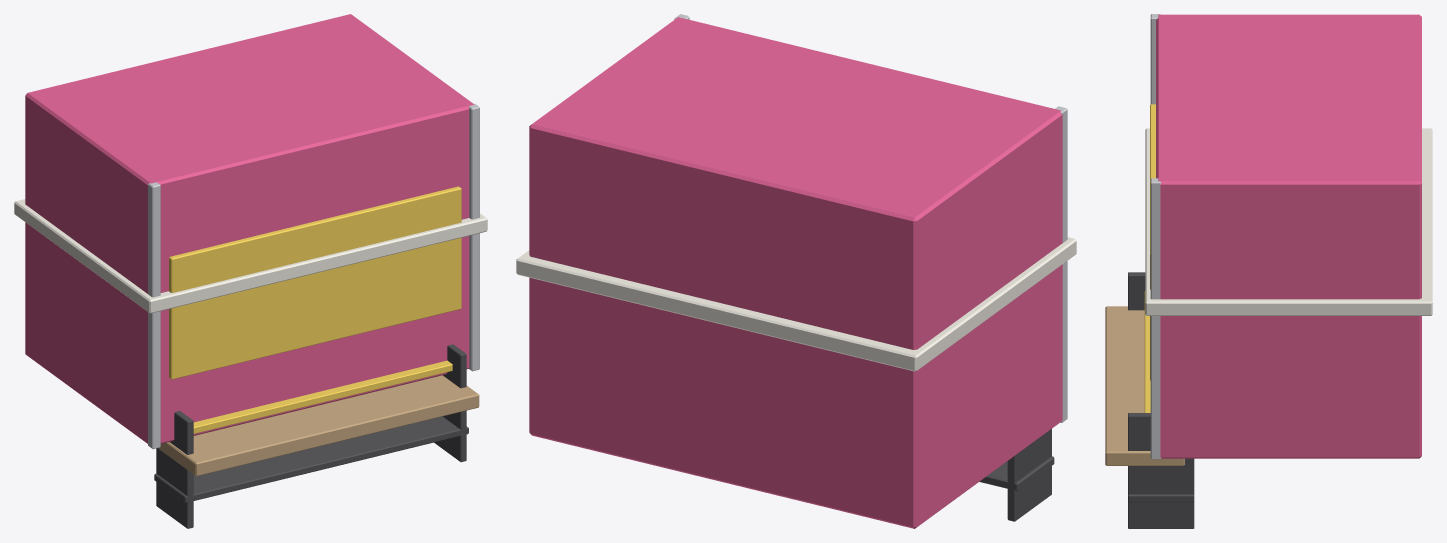
Rendered from live-music-venue-and-festival-stage-merch-stall-3fd15894.glb.
The picture shows the model from 3 angles, left to right: view 1: azimuth 30°, elevation 25°; view 2: azimuth 150°, elevation 25°; view 3: azimuth 270°, elevation 25°; orthographic projection. The views are drawn at different scales.
Parts seen in each view (by area): view 1: merch-stall, shutter; view 2: merch-stall; view 3: merch-stall, shutter.
Boxes of the visible parts, left/top/right/bottom form: merch-stall: left=14, top=14, right=487, bottom=528; shutter: left=169, top=186, right=461, bottom=433; merch-stall: left=516, top=14, right=1076, bottom=528; merch-stall: left=1105, top=14, right=1432, bottom=528; shutter: left=1144, top=104, right=1155, bottom=412.
Size of the model in its own units: 3.1 by 2.98 by 2.46.
